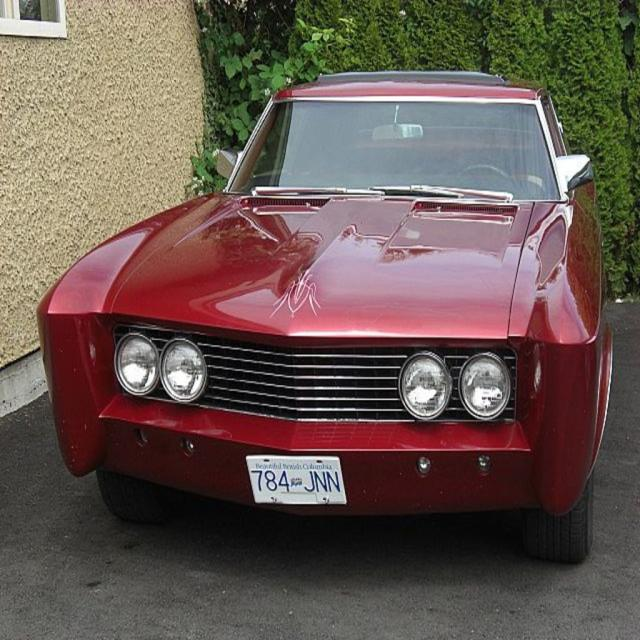car: (40, 74, 601, 558)
